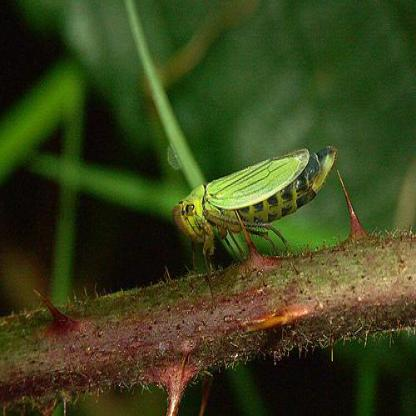Green-Leafhopper: (167, 143, 344, 276)
